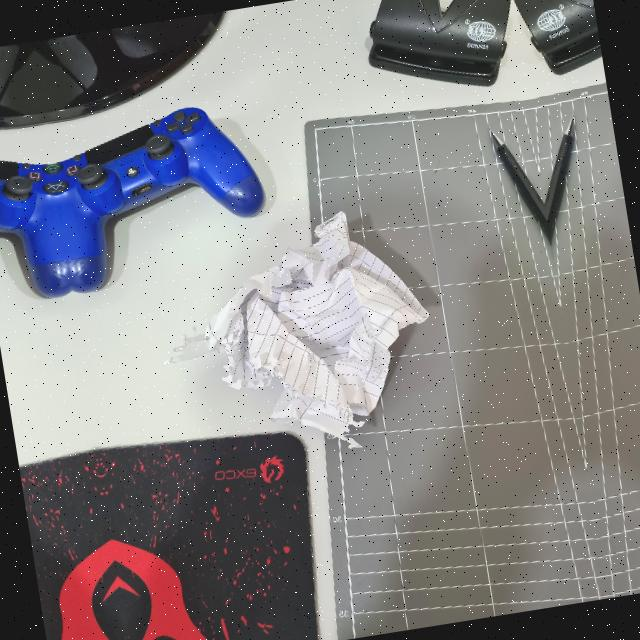paper: (160, 196, 446, 458)
